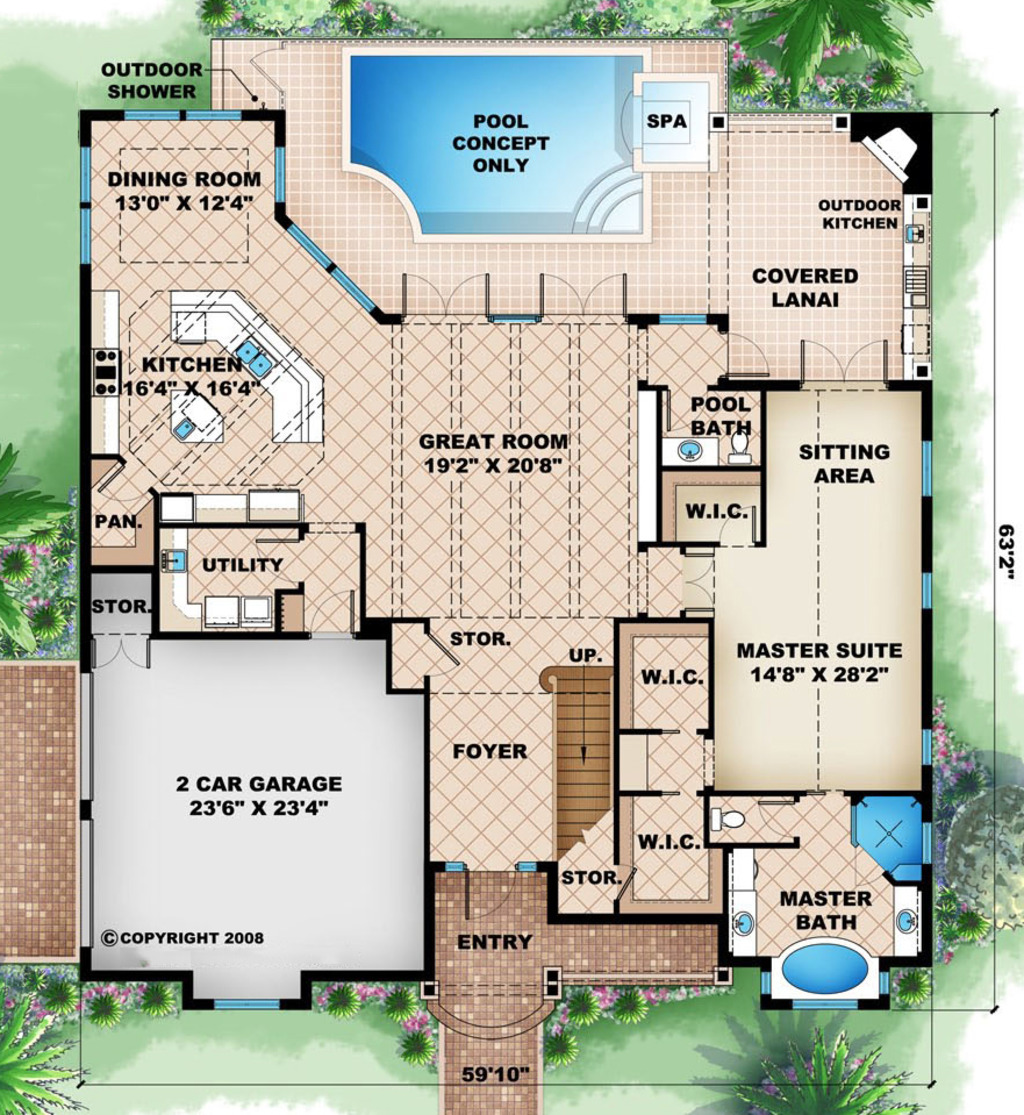door: (792, 335, 887, 386), (395, 271, 492, 320), (535, 270, 628, 315), (93, 461, 149, 507), (722, 332, 773, 381), (91, 633, 151, 673), (681, 547, 715, 615)
large_sink: (894, 888, 926, 955), (706, 803, 748, 835)
small_sink: (727, 886, 760, 959), (660, 434, 719, 468)
stairs: (539, 658, 616, 860)
tub: (775, 934, 878, 1000)
twin_sink: (235, 335, 271, 383)
windows: (74, 145, 98, 266), (118, 106, 241, 126)
